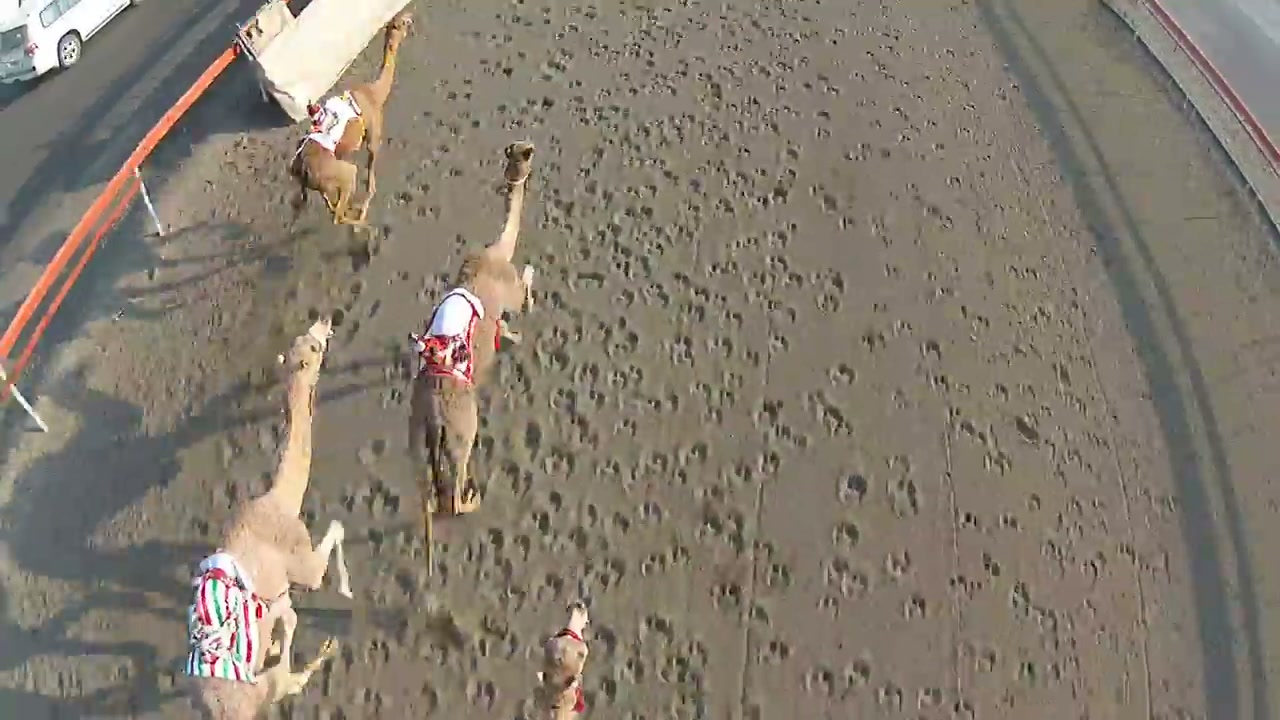animal_footprint: (462, 20, 720, 662), (602, 16, 840, 688), (306, 64, 491, 719)
